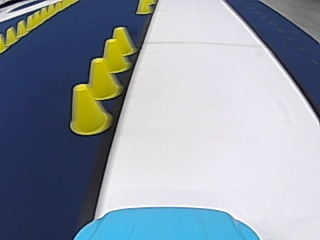cone: (68, 83, 110, 134), (83, 56, 121, 100), (100, 36, 127, 73), (111, 26, 136, 56), (136, 0, 151, 14), (5, 26, 16, 45), (16, 20, 26, 37)
